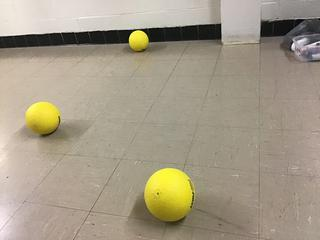power_cell: (140, 169, 201, 226), (22, 100, 63, 140), (124, 26, 154, 54)
